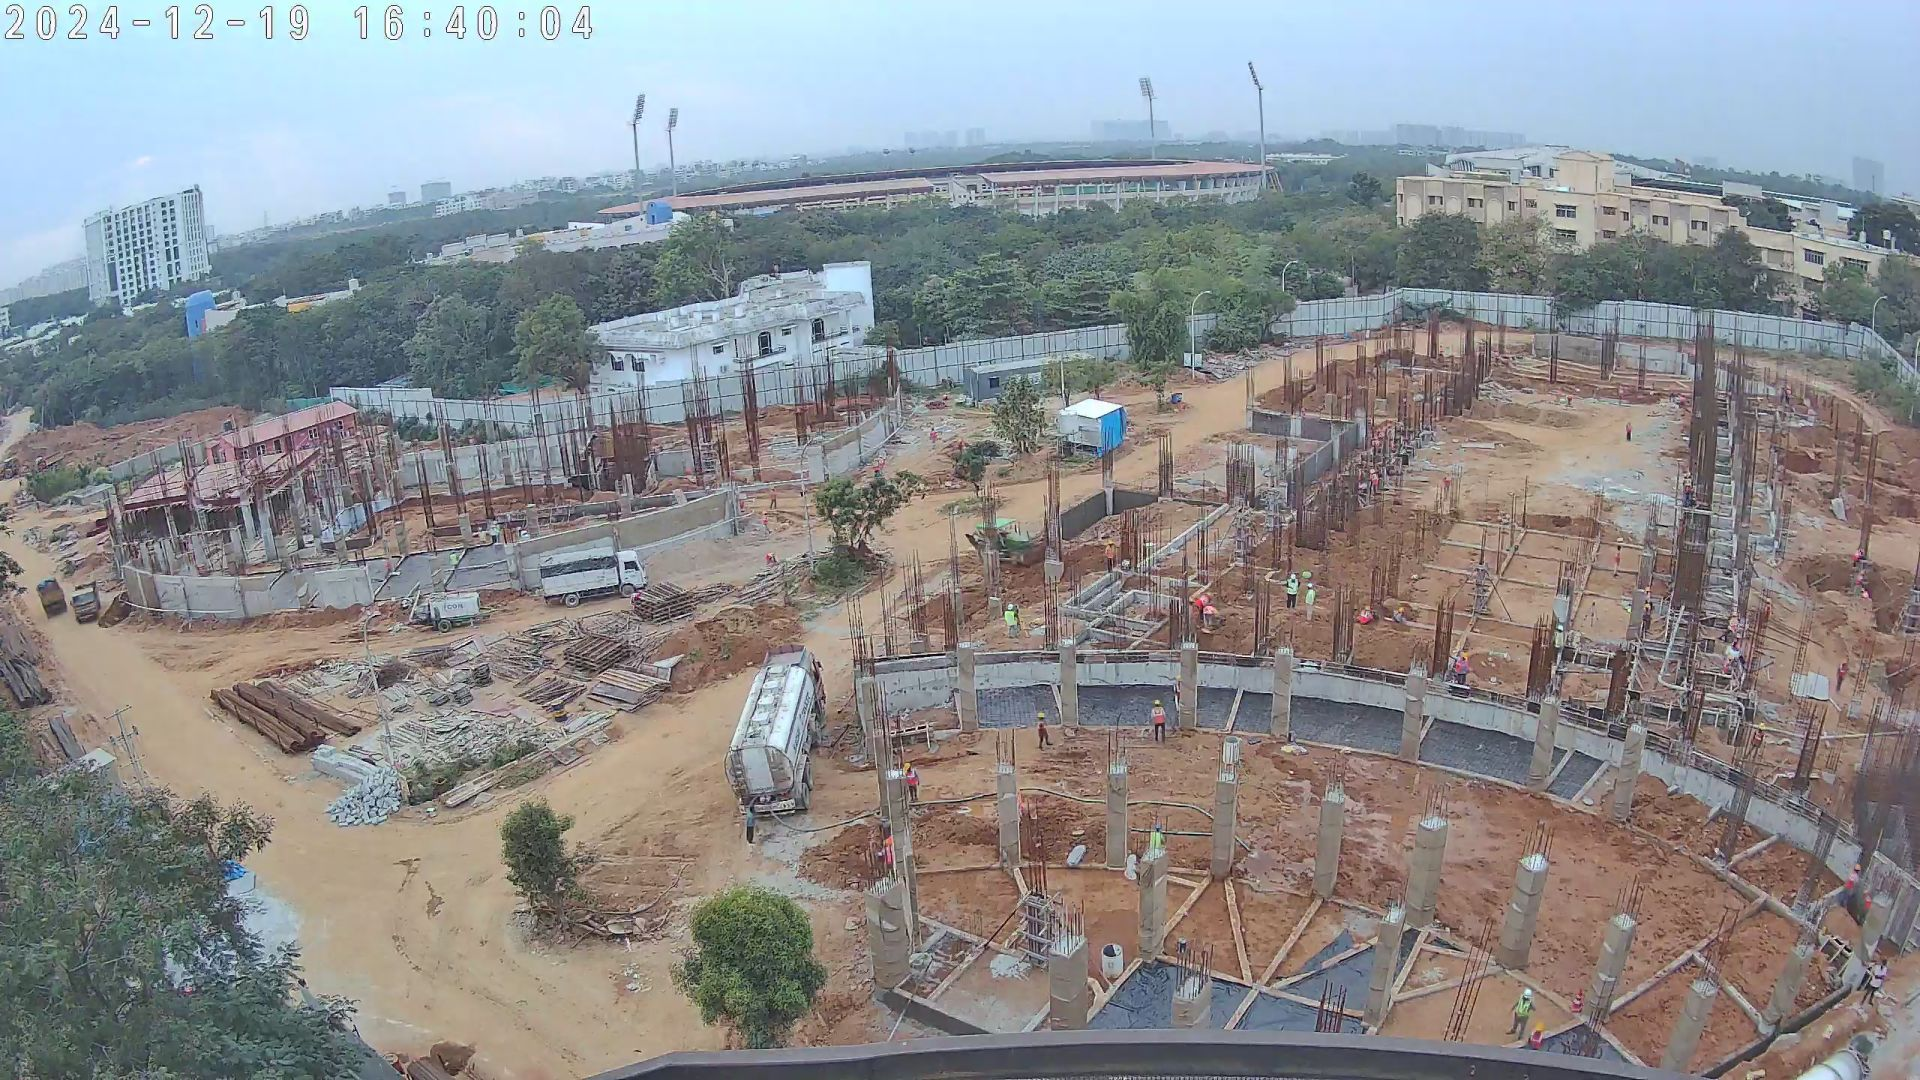bulldozer: (969, 516, 1052, 565)
truck: (723, 648, 824, 821), (534, 541, 648, 607), (67, 580, 101, 627), (34, 576, 64, 621)
worker: (1510, 988, 1540, 1054), (1030, 706, 1061, 756), (897, 761, 921, 810), (1281, 565, 1303, 612), (743, 801, 764, 843), (1845, 861, 1861, 911), (1450, 651, 1470, 690), (1150, 700, 1167, 744), (1003, 603, 1021, 644), (1303, 580, 1319, 626), (1748, 719, 1764, 764), (1723, 610, 1742, 644), (1680, 470, 1695, 511), (1149, 821, 1166, 854), (1204, 605, 1223, 633), (1104, 540, 1119, 574), (1196, 586, 1210, 620), (1835, 658, 1849, 692), (1390, 603, 1411, 625), (1365, 469, 1381, 496), (1610, 545, 1623, 578), (1357, 603, 1376, 624), (1760, 596, 1774, 624), (870, 455, 887, 478), (1440, 474, 1452, 505), (1675, 512, 1685, 547), (928, 426, 939, 456), (767, 486, 781, 509), (1850, 544, 1864, 566), (762, 550, 779, 568), (1854, 571, 1864, 601), (761, 509, 771, 536), (1721, 654, 1733, 676), (1623, 420, 1634, 443), (1565, 393, 1575, 407)
